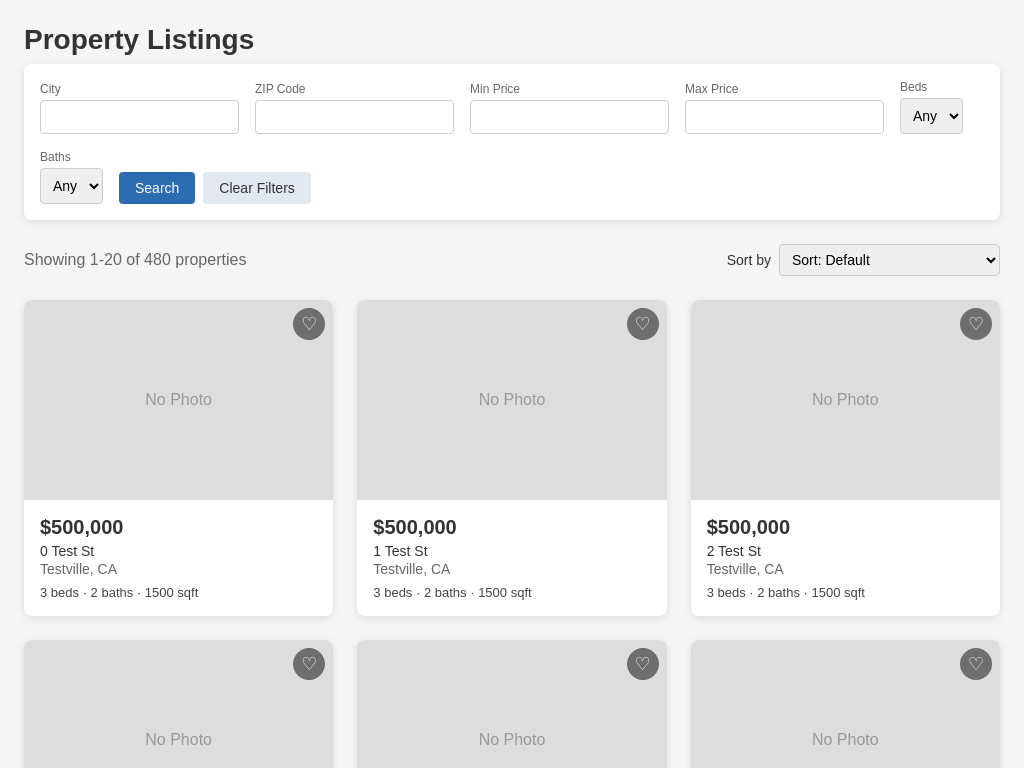
Test case: sort persists across a page change
The width and height of the screenshot is (1024, 768).
Expected: the text "Showing 1-20 of 480 properties" is shown, [24, 251, 246, 269]
Select "Price: Low to High" in the dropdown labelled "Sort by" at (890, 260), box [779, 244, 1000, 276]
(page scrolled)
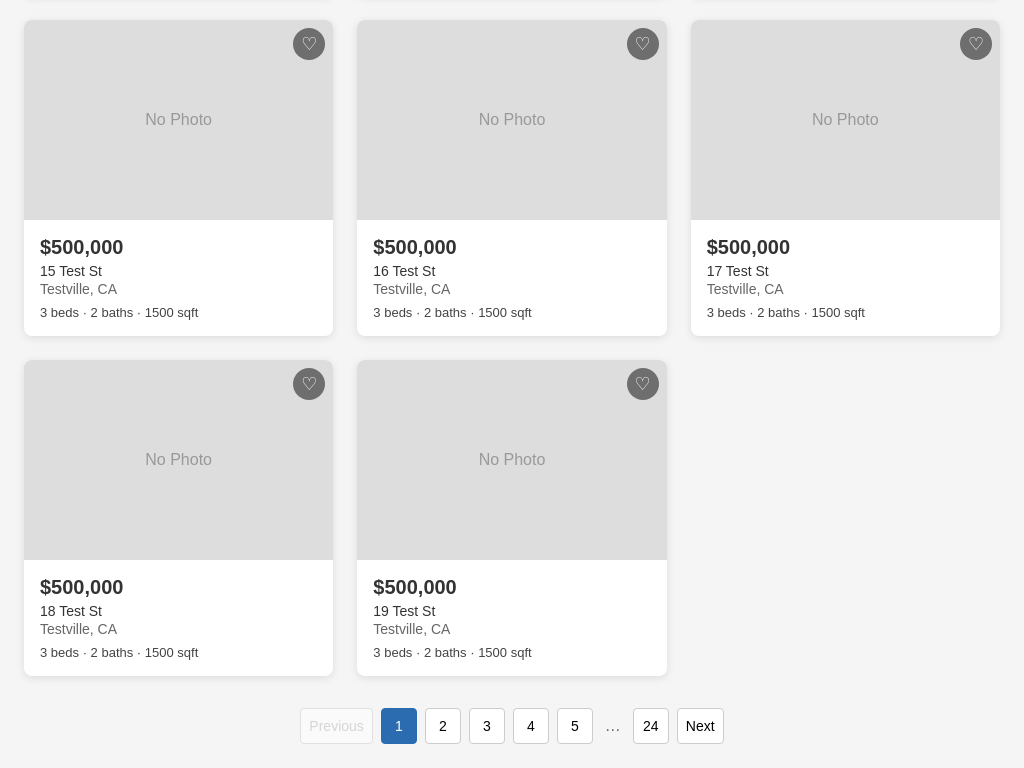
Click the button "5" at (575, 726), box [557, 708, 593, 744]
(page scrolled)
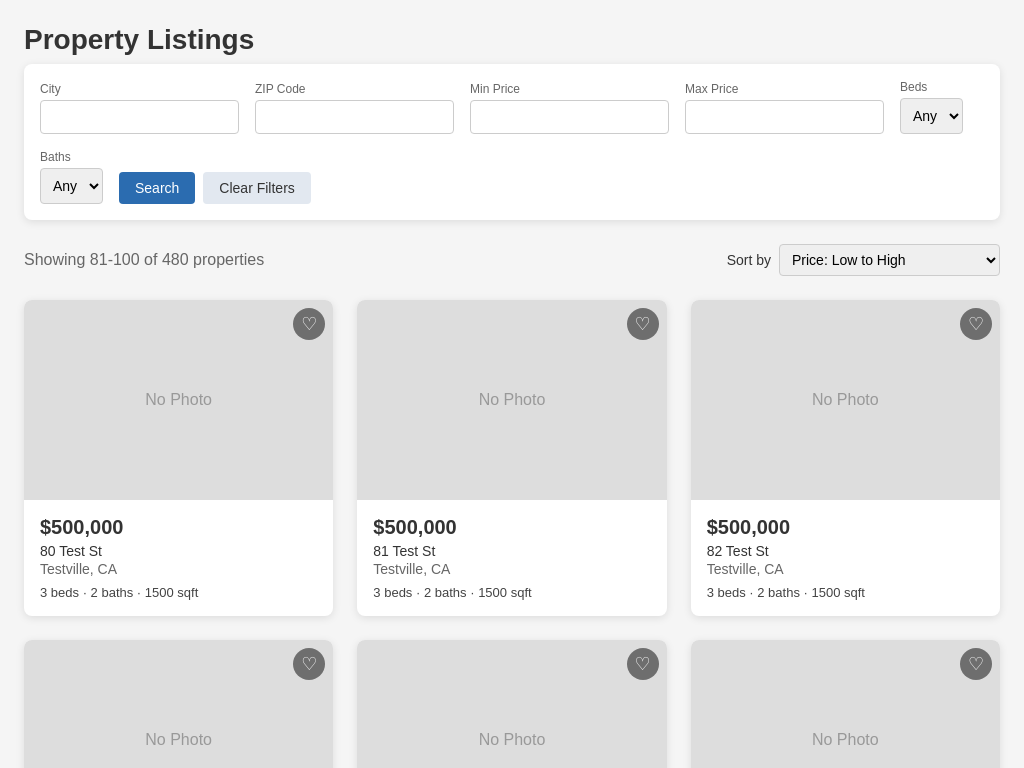
Expected: the text "Showing 81-100 of 480 properties" is shown, [24, 251, 264, 269]
